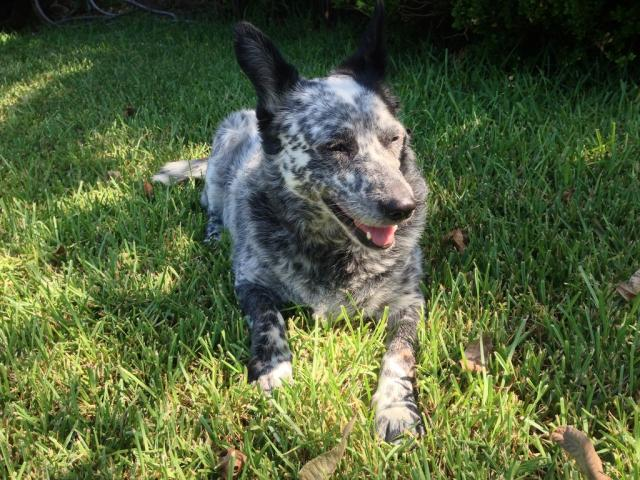Dog: (147, 0, 426, 452)
